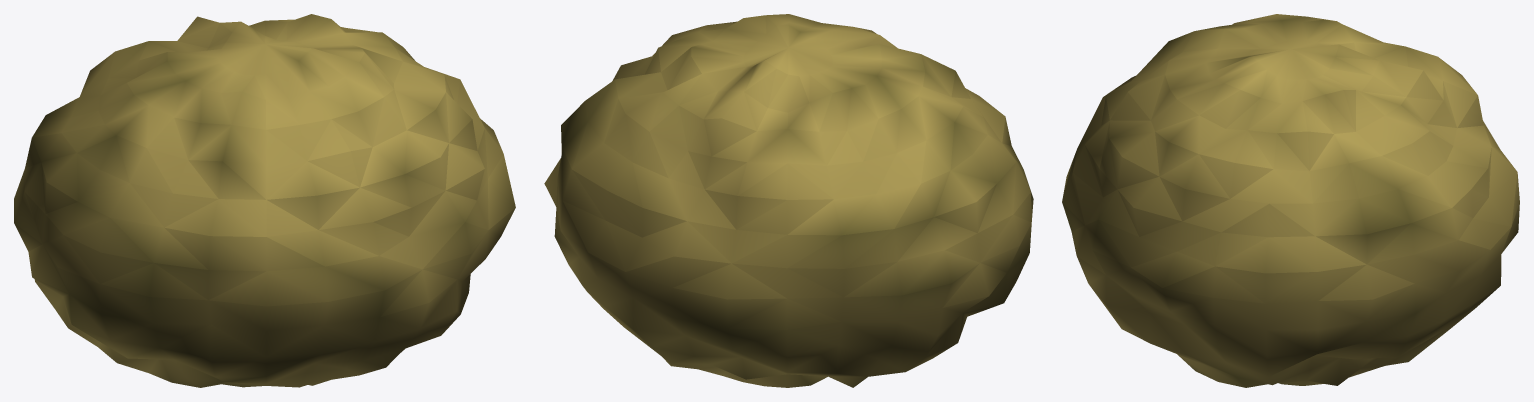
The model's file is brain_coral.glb.
The picture shows the model from 3 angles, left to right: view 1: azimuth 30°, elevation 25°; view 2: azimuth 150°, elevation 25°; view 3: azimuth 270°, elevation 25°; orthographic projection. The views are drawn at different scales.
Parts seen in each view (by area): view 1: brain_coral; view 2: brain_coral; view 3: brain_coral.
Part boxes in pixels (x1,y1,x2,y2): brain_coral: [14, 14, 515, 387]; brain_coral: [544, 14, 1033, 387]; brain_coral: [1062, 14, 1519, 387].
Bounding box in the file's own units: 1.07 × 0.7281 × 1.
